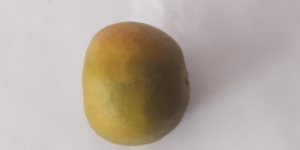BAD: (82, 20, 190, 149)
